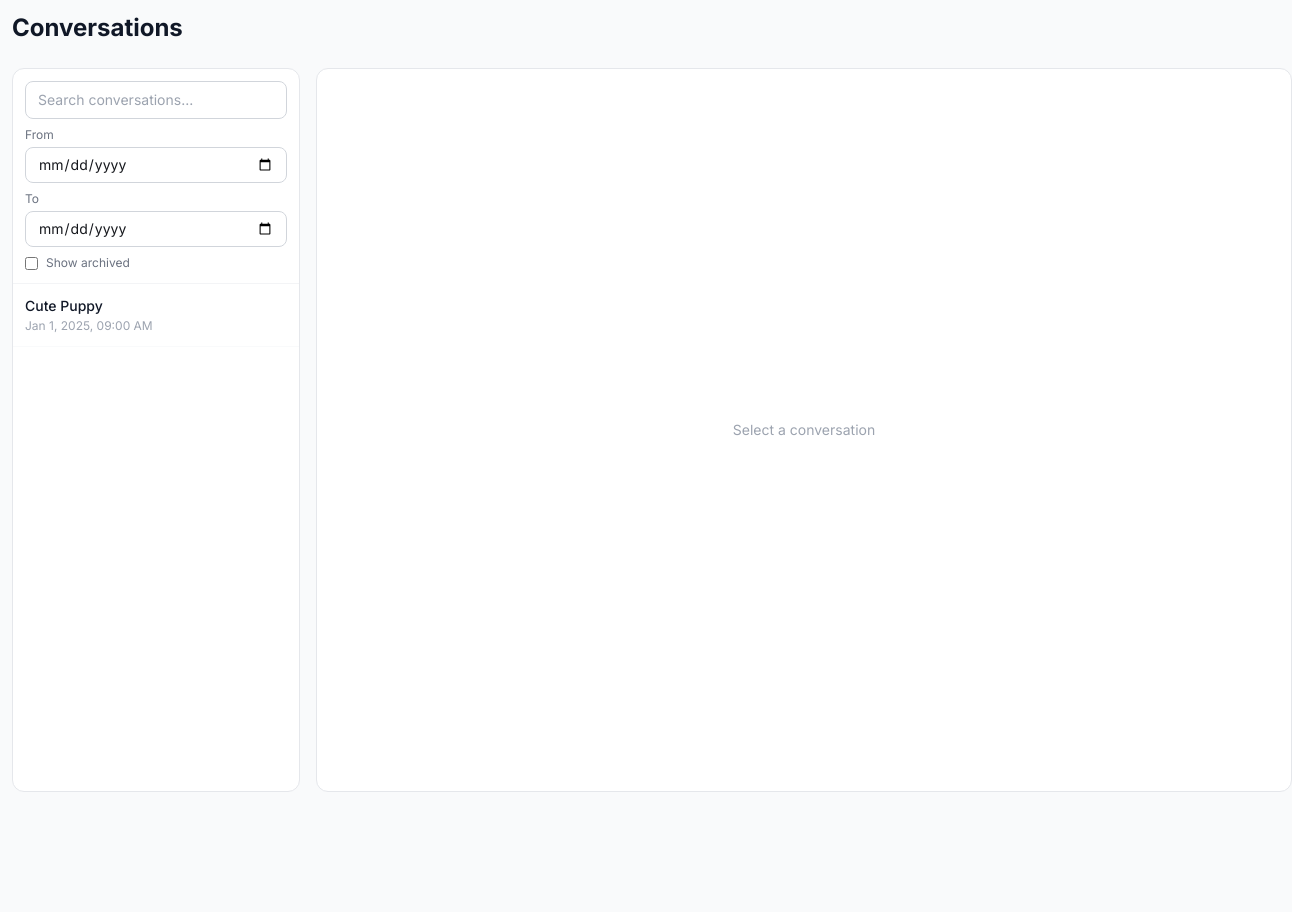
Test: Internal note visibility — role-based filtering › shopper does NOT see internal notes
This screenshot has width=1292, height=912.
Click the text "Cute Puppy" at (64, 306), box top-left (25, 297), bottom-right (103, 314)
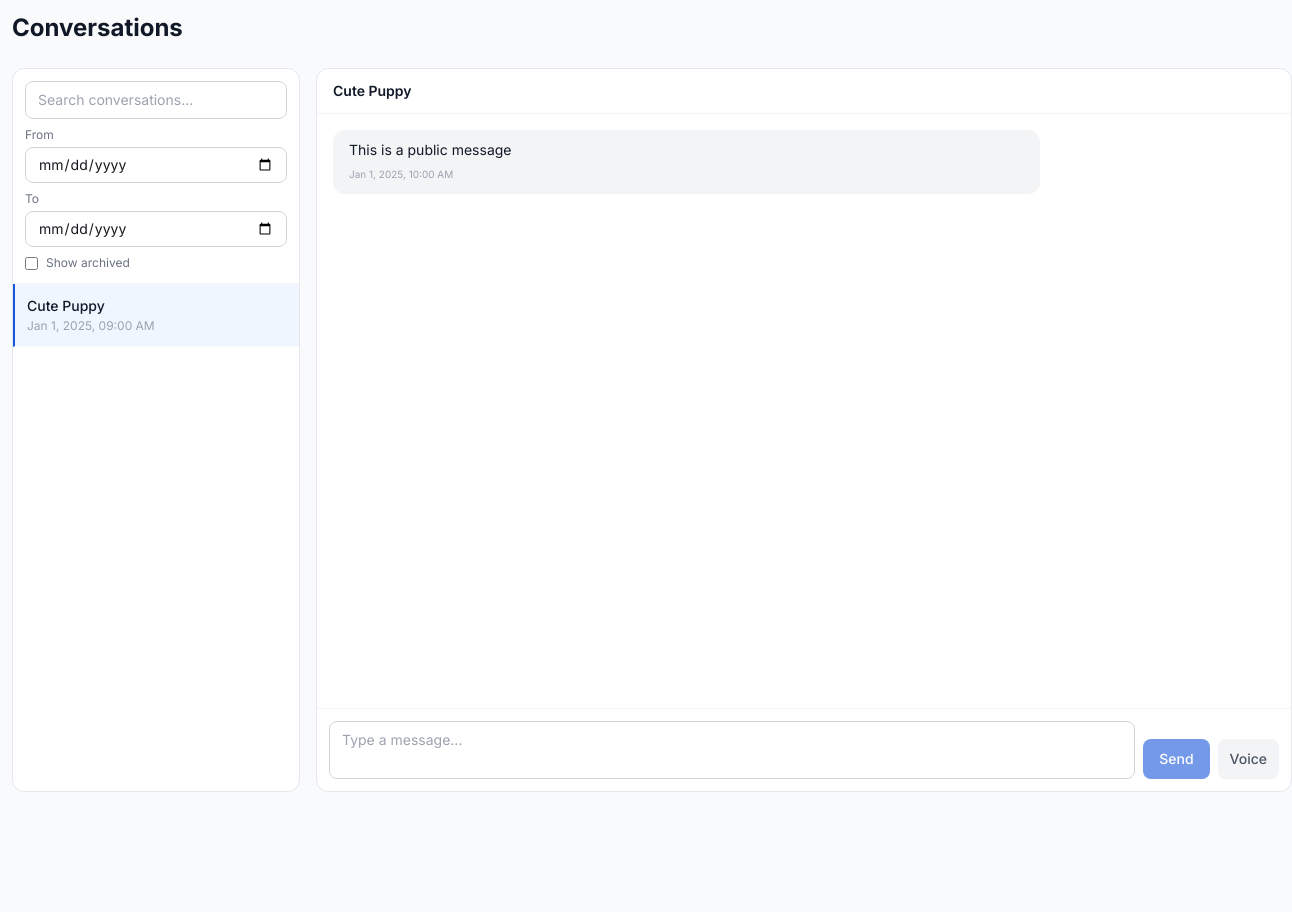
Now the text "This is a public message" is shown, box top-left (349, 141), bottom-right (512, 158)
